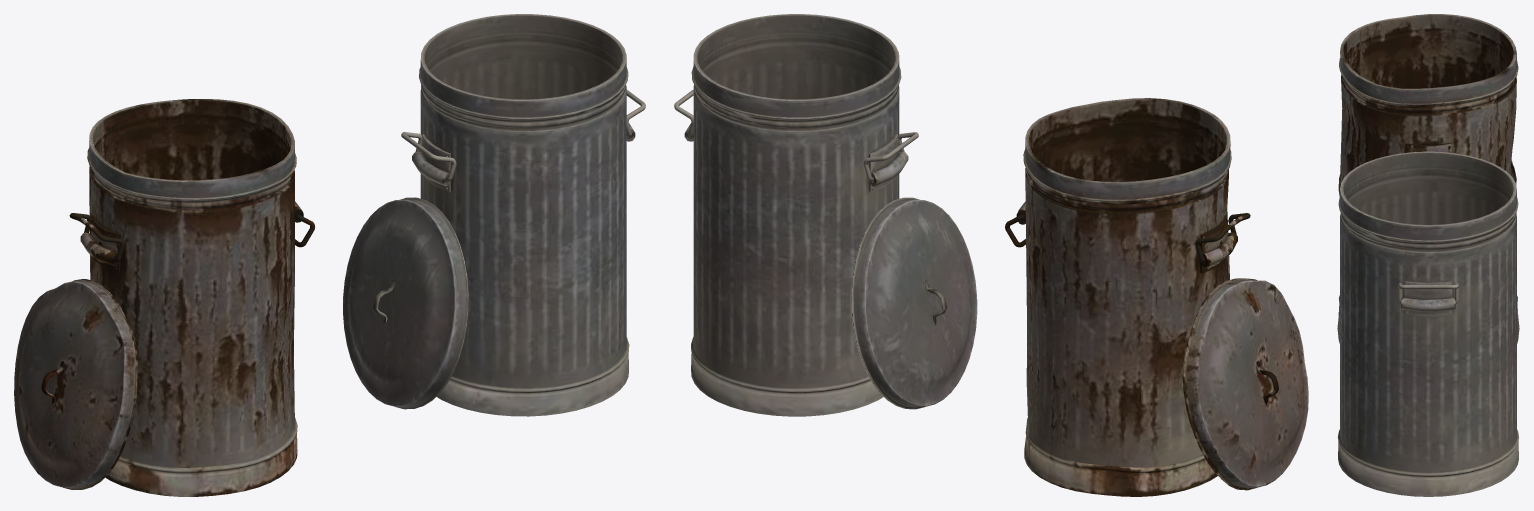
3 views of the same model, side by side, from view 1: azimuth 30°, elevation 25°; view 2: azimuth 150°, elevation 25°; view 3: azimuth 270°, elevation 25° (orthographic). The views are drawn at different scales.
Parts seen in each view (by area): view 1: metal_trash_can, metal_trash_can_rust, metal_trash_can_lid, metal_trash_can_rust_lid; view 2: metal_trash_can, metal_trash_can_rust, metal_trash_can_lid, metal_trash_can_rust_lid; view 3: metal_trash_can, metal_trash_can_rust, metal_trash_can_handle_right.
Part boxes in pixels (left/top/right/bottom): metal_trash_can: left=412, top=14, right=635, bottom=416; metal_trash_can_rust: left=80, top=99, right=303, bottom=496; metal_trash_can_lid: left=343, top=197, right=468, bottom=409; metal_trash_can_rust_lid: left=14, top=279, right=137, bottom=489; metal_trash_can: left=684, top=14, right=908, bottom=416; metal_trash_can_rust: left=1016, top=98, right=1237, bottom=496; metal_trash_can_lid: left=851, top=197, right=977, bottom=409; metal_trash_can_rust_lid: left=1183, top=278, right=1308, bottom=490; metal_trash_can: left=1337, top=151, right=1518, bottom=496; metal_trash_can_rust: left=1338, top=14, right=1518, bottom=316; metal_trash_can_handle_right: left=1398, top=283, right=1458, bottom=303.
Bounding box in the file's own units: 1.78 × 0.9062 × 0.5543.
2 materials, 2 textured.
